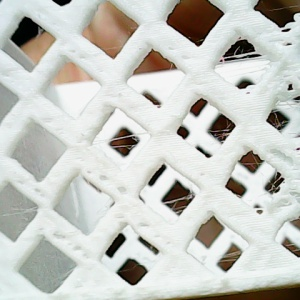3dpstringing: (96, 128, 154, 162), (221, 46, 263, 82), (4, 199, 43, 229), (162, 189, 198, 218), (214, 246, 247, 272), (268, 118, 299, 141), (271, 93, 299, 117), (203, 125, 237, 144), (265, 173, 288, 198), (242, 154, 266, 173), (281, 237, 299, 258), (34, 24, 51, 40), (250, 205, 268, 217), (102, 45, 122, 53)
3dpunderextrusion: (138, 222, 186, 255), (88, 168, 133, 201), (52, 227, 94, 262), (269, 147, 300, 194), (164, 44, 207, 70)
